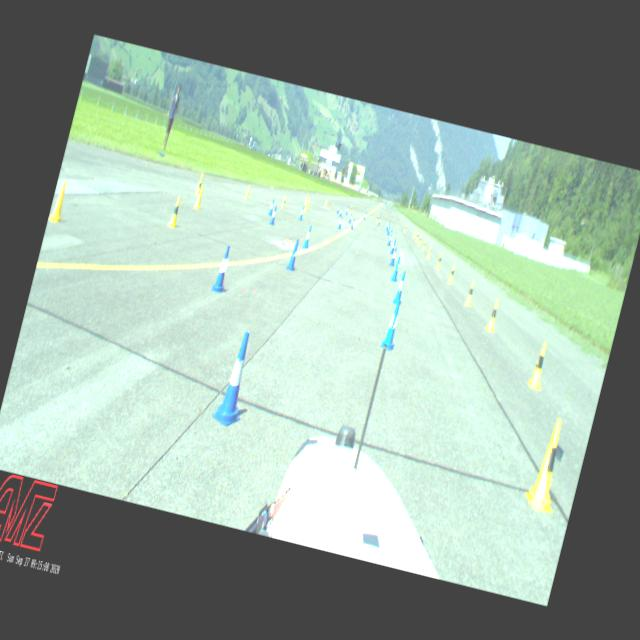blue_cone: (210, 328, 260, 428), (379, 298, 404, 351), (210, 244, 234, 294), (392, 270, 408, 305), (285, 238, 301, 270), (390, 256, 401, 282), (302, 224, 313, 248), (268, 205, 278, 225), (389, 246, 398, 266), (267, 198, 275, 216), (386, 232, 394, 246), (389, 238, 396, 254), (298, 205, 304, 220), (338, 216, 343, 228), (350, 217, 355, 229), (387, 228, 392, 240), (338, 206, 343, 217), (386, 226, 391, 234), (362, 210, 366, 220), (348, 213, 352, 223), (386, 222, 390, 232), (344, 206, 348, 215), (336, 204, 340, 213), (377, 217, 381, 226), (386, 220, 388, 228)
yellow_cone: (522, 416, 574, 512), (526, 340, 551, 390), (48, 179, 70, 223), (485, 298, 502, 332), (168, 195, 182, 227), (464, 280, 476, 306), (193, 185, 204, 209), (447, 264, 456, 284), (195, 177, 203, 194), (196, 170, 203, 188), (244, 184, 251, 199), (436, 252, 442, 268), (426, 244, 432, 258), (280, 194, 286, 207), (421, 238, 426, 250), (304, 198, 308, 212), (304, 193, 309, 204), (412, 228, 417, 238), (306, 196, 310, 208), (418, 234, 422, 245), (323, 198, 328, 206), (415, 231, 419, 241), (402, 225, 407, 232), (348, 205, 352, 213), (376, 214, 379, 222)
